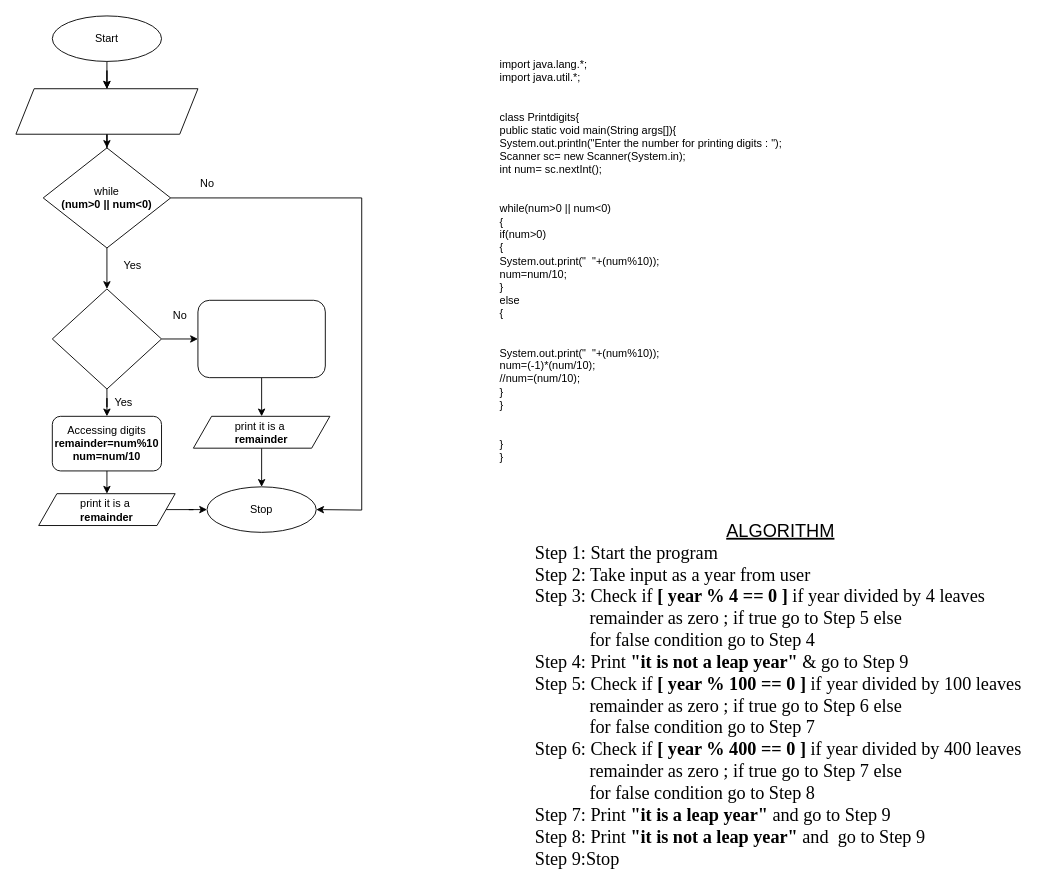
This 1051x896 diagram has some shape labels left out. The box of each missing label's shape, as (x1, y1, x2, y2) in pixels:
Check if num > 0: (51, 288, 162, 389)
Enter the number to print digits: (15, 88, 198, 134)
For negative number perform (num<0) remainder=num%10 num=(-1)*(num/10): (197, 299, 325, 378)
